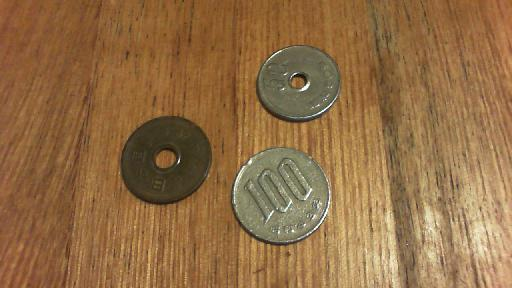100yen: (233, 148, 330, 244)
50yen: (256, 45, 340, 122)
5yen: (121, 116, 211, 204)
